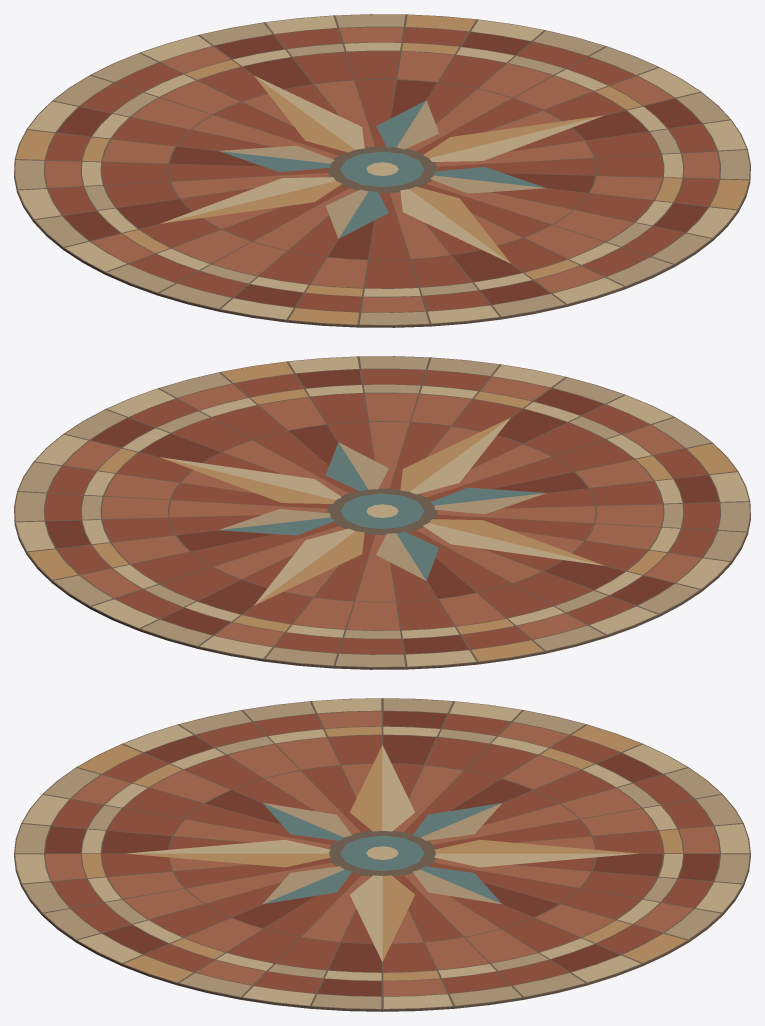
File: w0b-plaza-compass-medallion.glb
The picture shows the model from 3 angles, top to bottom: view 1: azimuth 30°, elevation 25°; view 2: azimuth 150°, elevation 25°; view 3: azimuth 270°, elevation 25°; orthographic projection.
Visible parts, largest first — view 1: W01 terracotta compass medallion; view 2: W01 terracotta compass medallion; view 3: W01 terracotta compass medallion.
Part boxes in pixels (x1=…): W01 terracotta compass medallion: x1=14, y1=14, x2=750, y2=327; W01 terracotta compass medallion: x1=14, y1=356, x2=750, y2=669; W01 terracotta compass medallion: x1=14, y1=698, x2=750, y2=1011.
Size of the model in its own units: 4.81 by 0.021 by 4.81.
